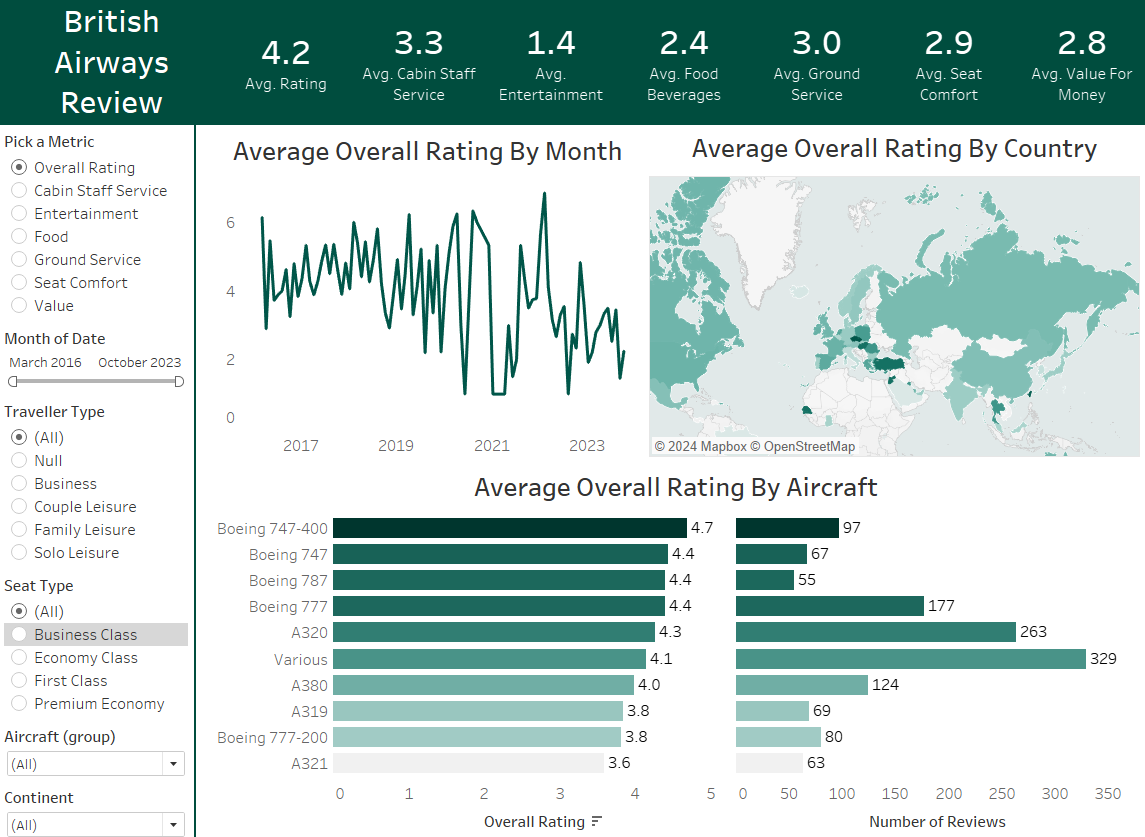

What the dashboard file says about the page in this screenshot:
{"tool":"tableau","page":{"name":"Dashboard 1","canvas":[1650,900],"ordinal":0},"visuals":[{"type":"text","box":[0,0,320.4,128.6]},{"type":"worksheet","title":"Summary","mark":"Automatic","box":[316.3,0,1331,128.6]},{"type":"blank","box":[279,128,3,717]},{"type":"worksheet","title":"Map","mark":"Automatic","box":[931,130,704,331]},{"type":"parameter","param":"[Parameters].[Parameter 1]","box":[0,131.1,275,197]},{"type":"worksheet","title":"Month","mark":"Automatic","rows":["Calculation_596727007094796288"],"cols":["date"],"box":[304,133,619,329]},{"type":"filter","title":"Map","param":"[federated.1ml7ax61t77crm1cy22dc1brz6zl].[tmn:date:qk]","box":[0,328.1,275,73]},{"type":"filter","title":"Map","param":"[federated.1ml7ax61t77crm1cy22dc1brz6zl].[none:traveller_type:nk]","box":[0,401.1,275,174]},{"type":"worksheet","title":"Aircraft","mark":"Automatic","cols":["Calculation_596727007094796288","ba_reviews.csv_79CF007A946E4606BC7248A4C396D842"],"box":[305,469,1329,374]},{"type":"filter","title":"Map","param":"[federated.1ml7ax61t77crm1cy22dc1brz6zl].[none:seat_type:nk]","box":[0,575.1,275,151]},{"type":"filter","title":"Map","param":"[federated.1ml7ax61t77crm1cy22dc1brz6zl].[Aircraft (group)]","box":[0,726.1,275,61]},{"type":"filter","title":"Map","param":"[federated.1ml7ax61t77crm1cy22dc1brz6zl].[none:Continent:nk]","box":[0,787.1,275,61]}]}

Visuals, with their boxes on the page's 1650x900 design canvas (x1, y1, x2, y2). These are canvas units, not pixel positions in the 1145x837 screenshot, which may show the page scaled, cropped or inside an application window:
text: [left=0, top=0, right=320, bottom=129]
"Summary" worksheet: [left=316, top=0, right=1647, bottom=129]
blank: [left=279, top=128, right=282, bottom=845]
"Map" worksheet: [left=931, top=130, right=1635, bottom=461]
parameter: [left=0, top=131, right=275, bottom=328]
"Month" worksheet: [left=304, top=133, right=923, bottom=462]
"Map" filter: [left=0, top=328, right=275, bottom=401]
"Map" filter: [left=0, top=401, right=275, bottom=575]
"Aircraft" worksheet: [left=305, top=469, right=1634, bottom=843]
"Map" filter: [left=0, top=575, right=275, bottom=726]
"Map" filter: [left=0, top=726, right=275, bottom=787]
"Map" filter: [left=0, top=787, right=275, bottom=848]
